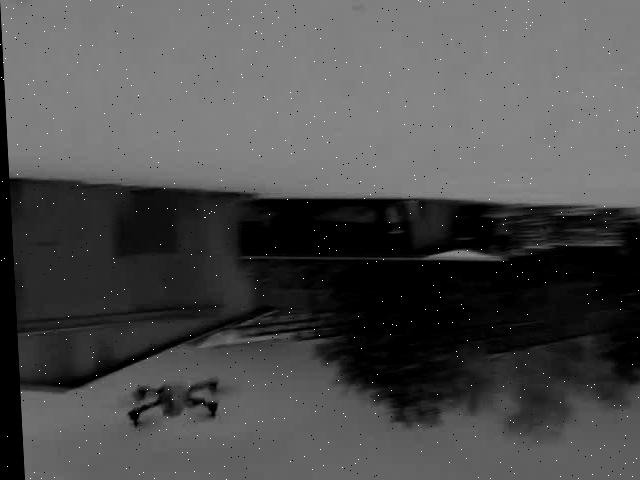drone: (117, 378, 216, 432)
